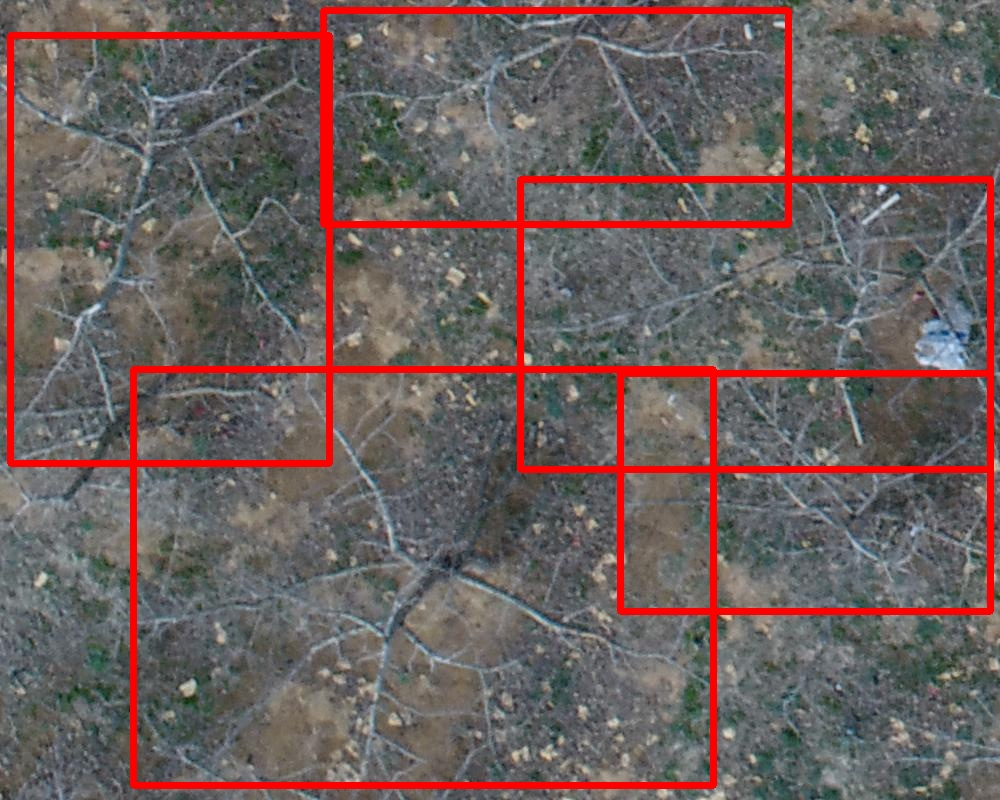apple: (133, 369, 713, 785), (10, 35, 329, 463), (520, 179, 990, 469), (323, 10, 788, 224), (620, 373, 990, 611)
